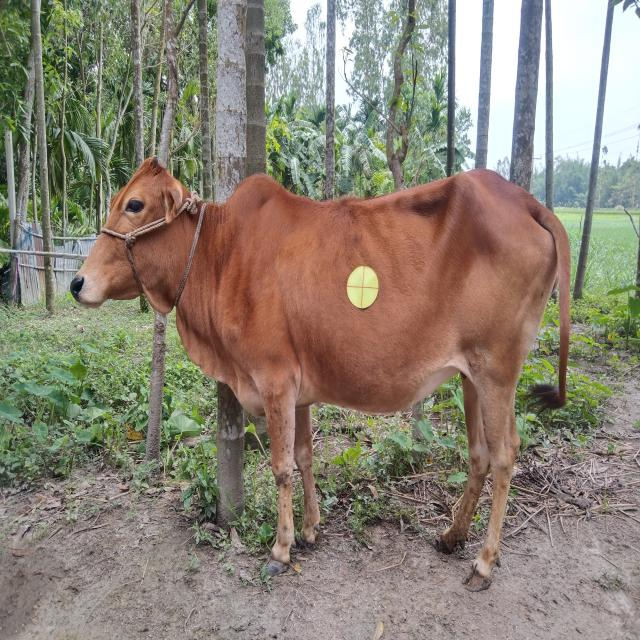badan_sapi: (230, 200, 558, 415)
sapi: (66, 134, 589, 602)
